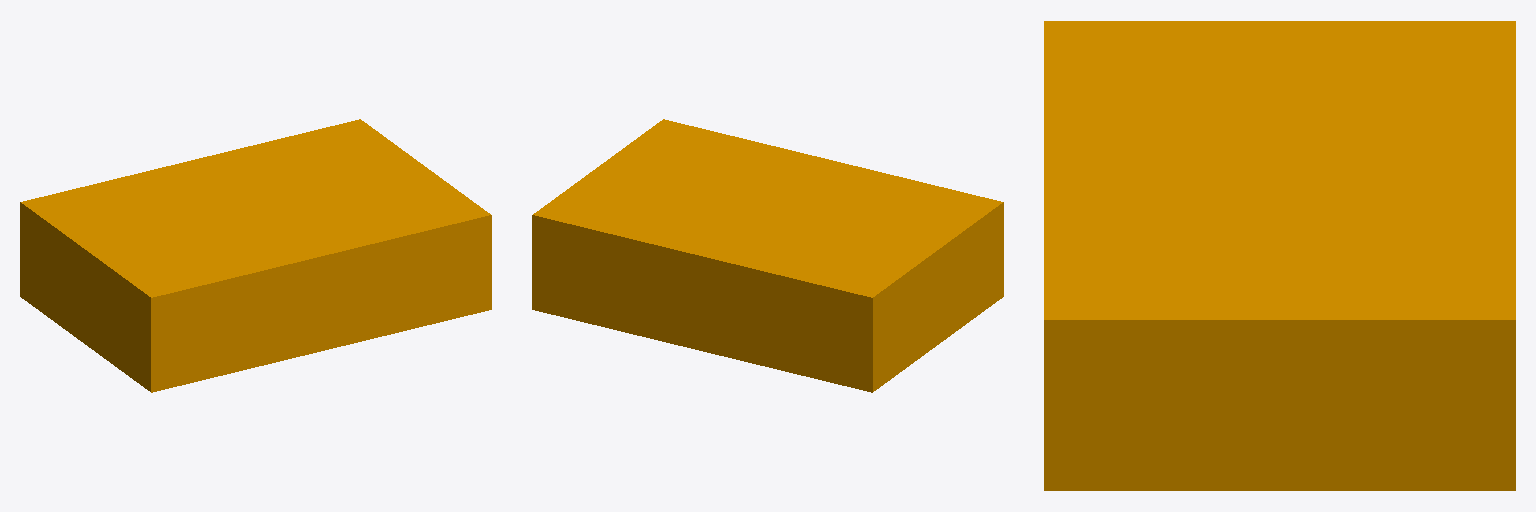
The robot description file, URDF, robot "2x2":
<?xml version='1.0' encoding='UTF-8'?>
<robot name="2x2">
  <link name="base_link">
    <inertial>
      <origin xyz="0.0 0.0 0.0" rpy="0.0 0.0 0.0"/>
      <mass value="0.01"/>
      <inertia ixx="0.1" ixy="0.0" ixz="0.0" iyy="0.1" iyz="0.0" izz="0.1"/>
    </inertial>
    <visual>
      <geometry>
        <box size="0.045 0.03  0.012"/>
      </geometry>
      <material name=""/>
      <origin xyz="0.0 0.0 0.0" rpy="0.0 0.0 0.0"/>
    </visual>
    <collision>
      <geometry>
        <box size="0.045 0.03  0.012"/>
      </geometry>
      <origin xyz="0.0 0.0 0.0" rpy="0.0 0.0 0.0"/>
    </collision>
  </link>
  <material name="">
    <color rgba="0.758 0.092 0.812 1.   "/>
  </material>
  <contact>
    <lateral_friction value="1.0"/>
    <rolling_friction value="0.0"/>
    <contact_cfm value="0.0"/>
    <contact_erp value="1.0"/>
  </contact>
</robot>

--- Render facts (derived) ---
The picture shows the robot from 3 angles, left to right: view 1: azimuth 30°, elevation 25°; view 2: azimuth 150°, elevation 25°; view 3: azimuth 270°, elevation 25°; orthographic projection.
Model 2x2 with 1 links and 0 joints (none), rooted at base_link, posed all joints at 0.
Links seen in each view (by area): view 1: base_link; view 2: base_link; view 3: base_link.
Link boxes in pixels (x1=…): base_link: x1=20, y1=119, x2=491, y2=392; base_link: x1=532, y1=119, x2=1003, y2=392; base_link: x1=1044, y1=21, x2=1515, y2=490.
Size in the robot's own frame: 0.045 by 0.03 by 0.012 metres.
Geometry: primitives only (box / cylinder / sphere), no mesh files.